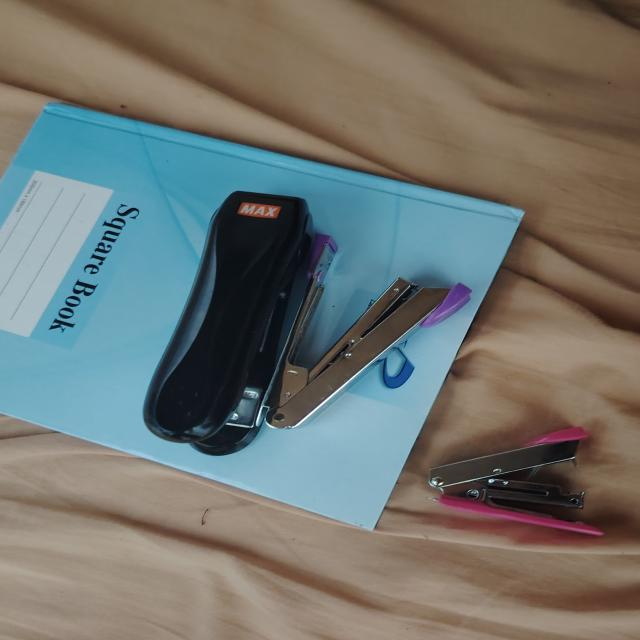stapler: (144, 191, 311, 456), (264, 234, 471, 429), (429, 427, 603, 536)
